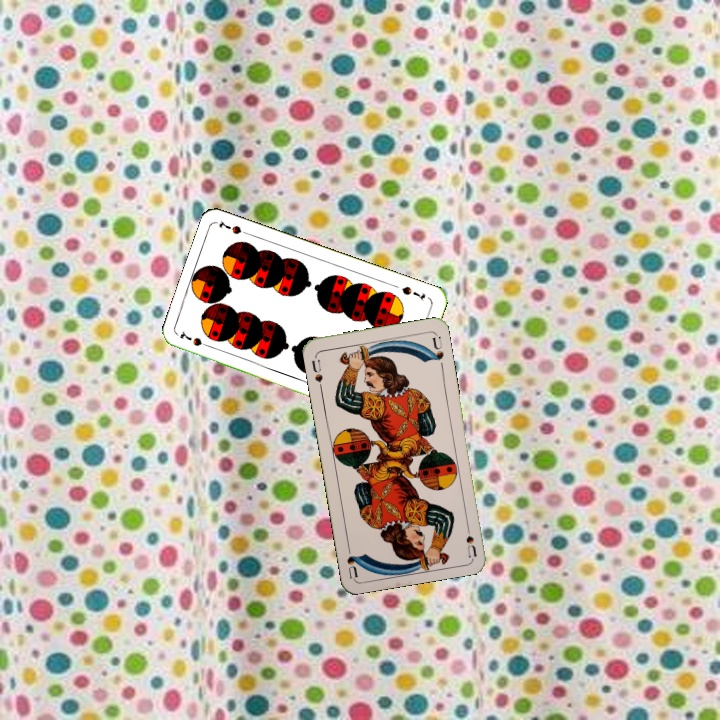S7: (176, 328, 214, 351), (398, 282, 428, 303)
SU: (462, 518, 479, 559), (307, 356, 325, 392)
